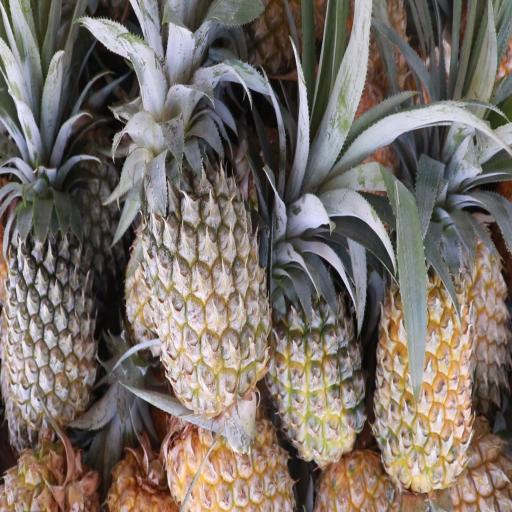------------------------------: (134, 85, 276, 426), (264, 244, 368, 477)
Pineapple - v8 v1: (372, 208, 480, 496)
